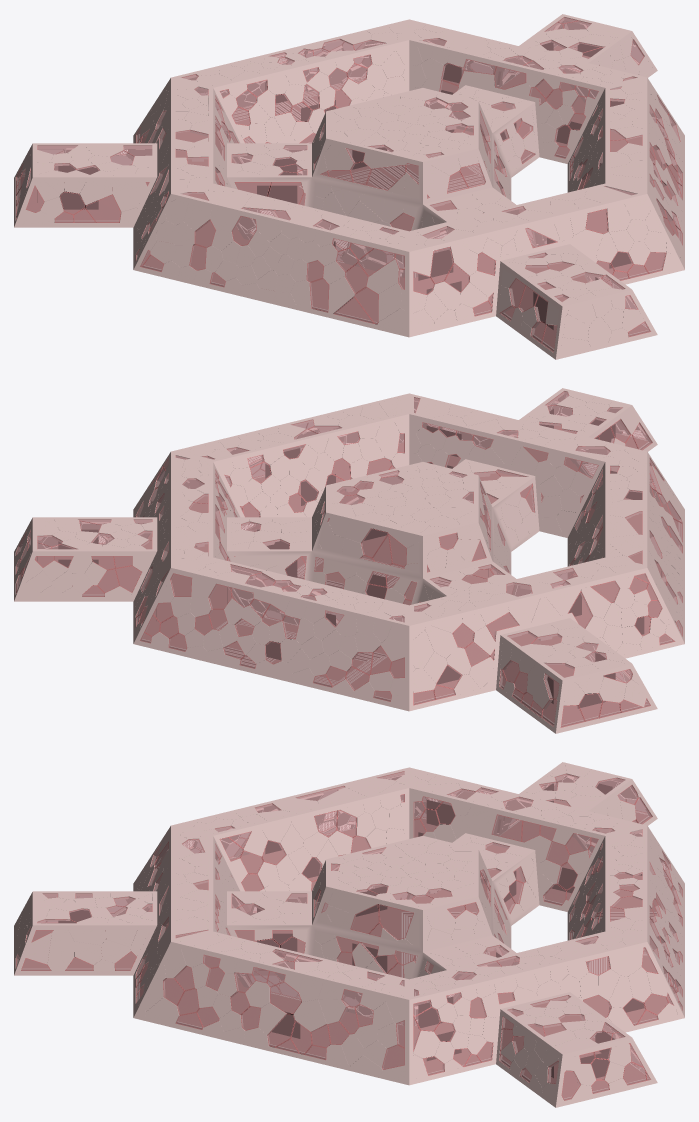
The model's file is sci-fi-interior-gallery-10.glb.
3 views of the same model, one above another, from view 1: azimuth 30°, elevation 25°; view 2: azimuth 150°, elevation 25°; view 3: azimuth 270°, elevation 25° (orthographic).
Parts seen in each view (by area): view 1: Walls_Walls_0, Walls_Glass_0, Floor_Floor_0, Walls_Metal_0_4, ScreenFrame_ScreenFrame_0; view 2: Walls_Walls_0, Walls_Glass_0, Floor_Floor_0, Walls_Metal_0_4, ScreenFrame_ScreenFrame_0; view 3: Walls_Walls_0, Walls_Glass_0, Floor_Floor_0, Walls_Metal_0_4, ScreenFrame_ScreenFrame_0.
Boxes of the visible parts, x1=… form: Walls_Walls_0: x1=14, y1=14, x2=684, y2=359; Walls_Glass_0: x1=16, y1=17, x2=682, y2=351; Floor_Floor_0: x1=20, y1=46, x2=678, y2=351; Walls_Metal_0_4: x1=16, y1=17, x2=682, y2=352; ScreenFrame_ScreenFrame_0: x1=19, y1=42, x2=679, y2=349; Walls_Walls_0: x1=14, y1=388, x2=684, y2=733; Walls_Glass_0: x1=16, y1=391, x2=681, y2=726; Floor_Floor_0: x1=18, y1=426, x2=678, y2=726; Walls_Metal_0_4: x1=16, y1=391, x2=682, y2=727; ScreenFrame_ScreenFrame_0: x1=19, y1=409, x2=679, y2=725; Walls_Walls_0: x1=14, y1=762, x2=684, y2=1107; Walls_Glass_0: x1=16, y1=771, x2=682, y2=1099; Floor_Floor_0: x1=21, y1=800, x2=678, y2=1099; Walls_Metal_0_4: x1=16, y1=771, x2=682, y2=1100; ScreenFrame_ScreenFrame_0: x1=58, y1=783, x2=679, y2=1098.
Bounding box in the file's own units: 1.58 × 0.1832 × 1.43.
Materials: 6 (6 with a texture image).
